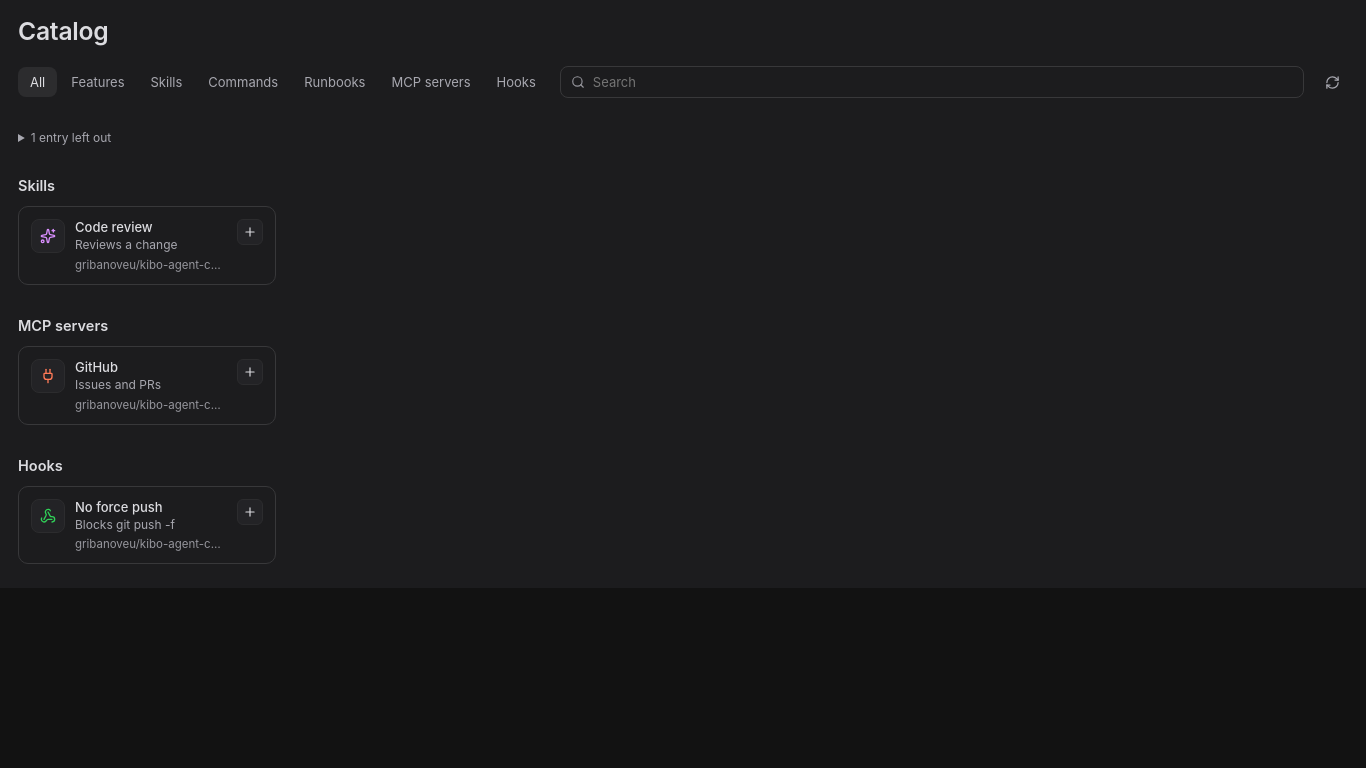
it: the catalog page › search narrows by name, id or description, and says when nothing matches
Expected: the heading "Code review" is shown, [75, 219, 153, 235]
Type "  PRS " into the field named "Search the catalog".
click(943, 82); type("  PRS ")  # box [593, 74, 1293, 90]
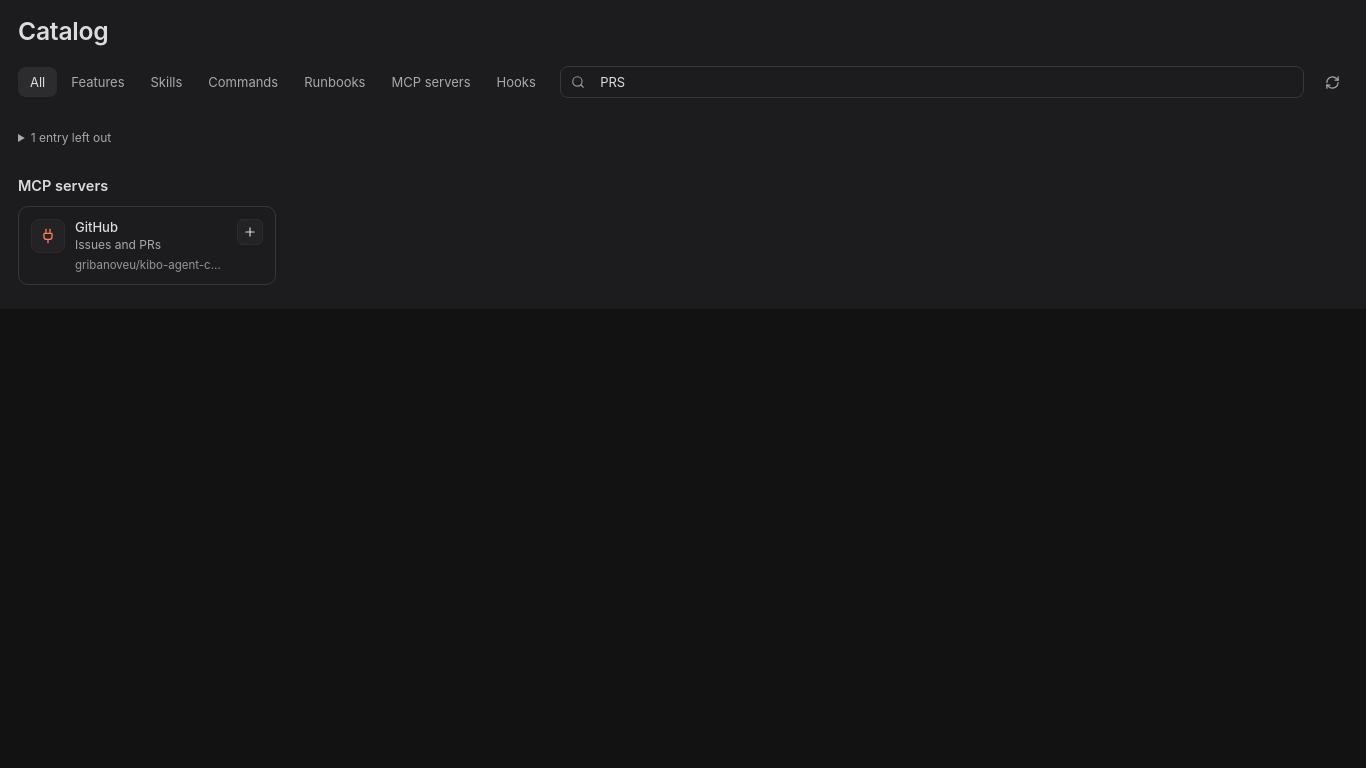
Expected: the heading "GitHub" is shown, [75, 219, 118, 235]
Expected: the button "Code review" is gone
Replace the text in the field named "Search the catalog" with "review" at [943, 82], box [593, 74, 1293, 90]
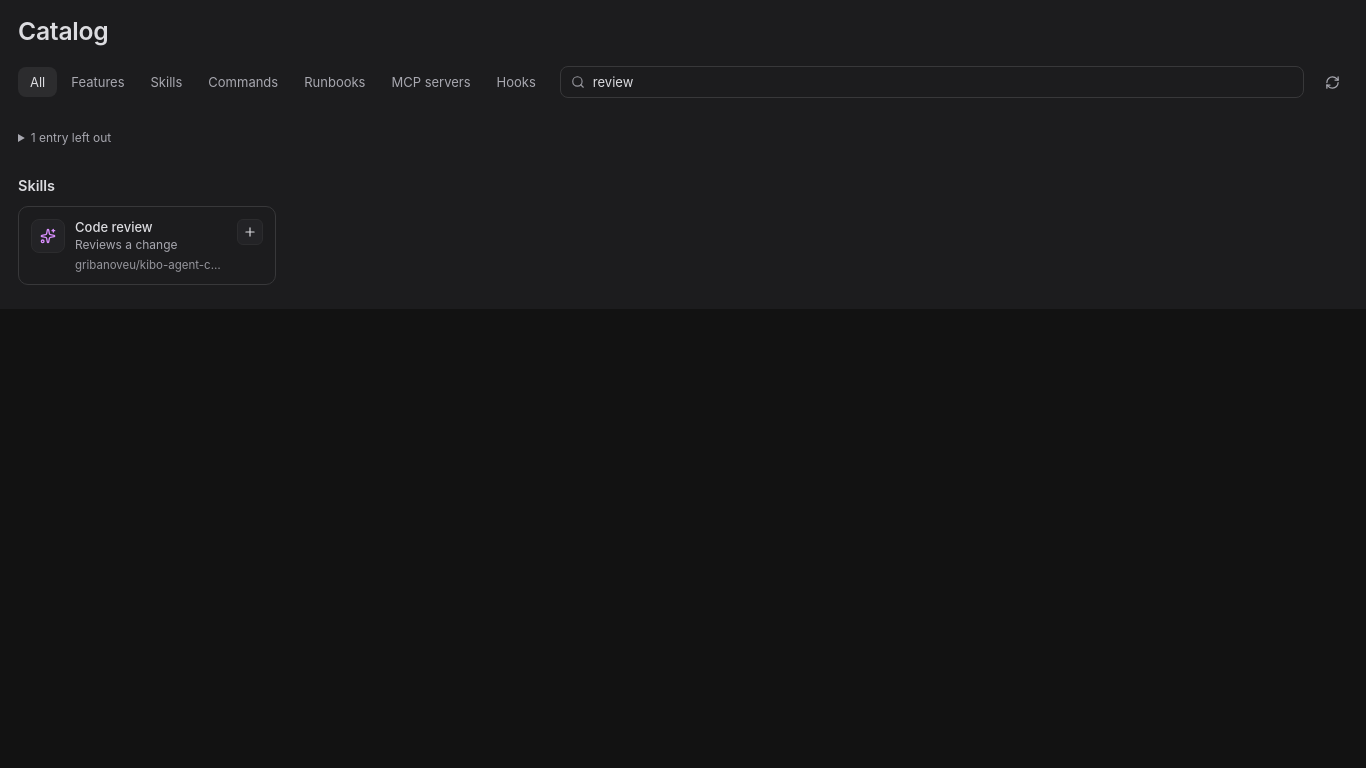
Expected: the heading "Code review" is shown, [75, 219, 153, 235]
Expected: the button "GitHub" is gone
Replace the text in the field named "Search the catalog" with "nothing like it" at [943, 82], box [593, 74, 1293, 90]
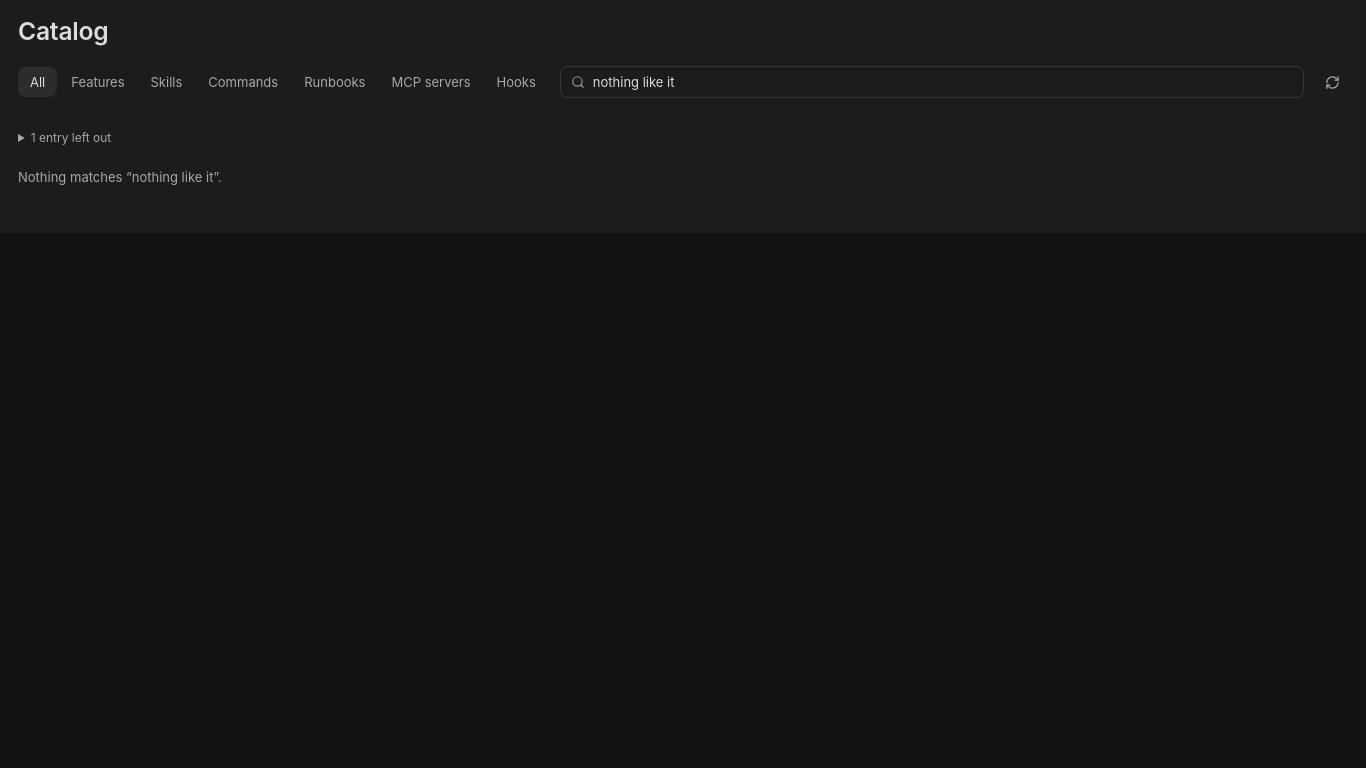
Expected: the text "Nothing matches “nothing like it”." is shown, [18, 169, 222, 185]
